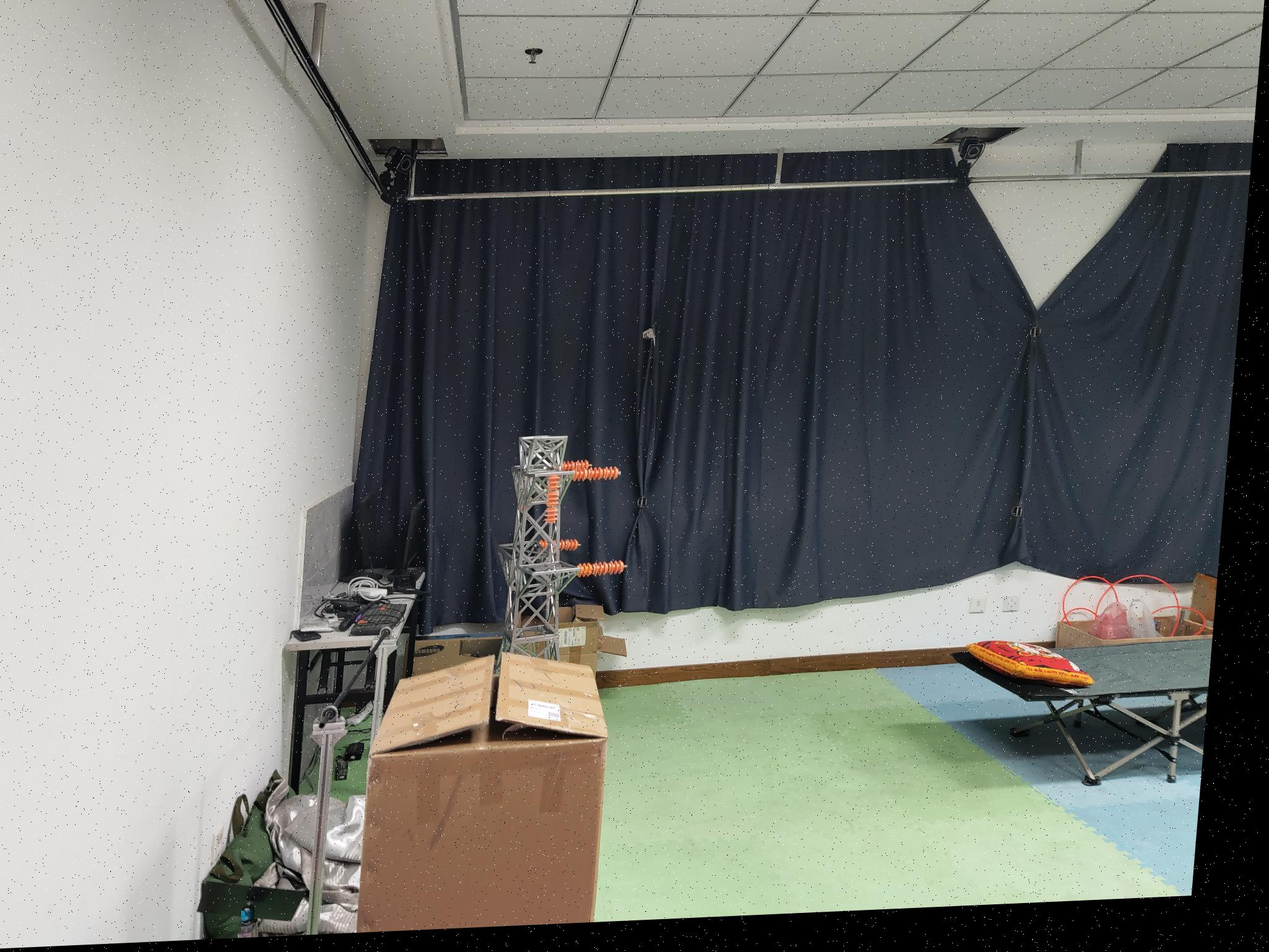tower: (485, 435, 590, 660)
